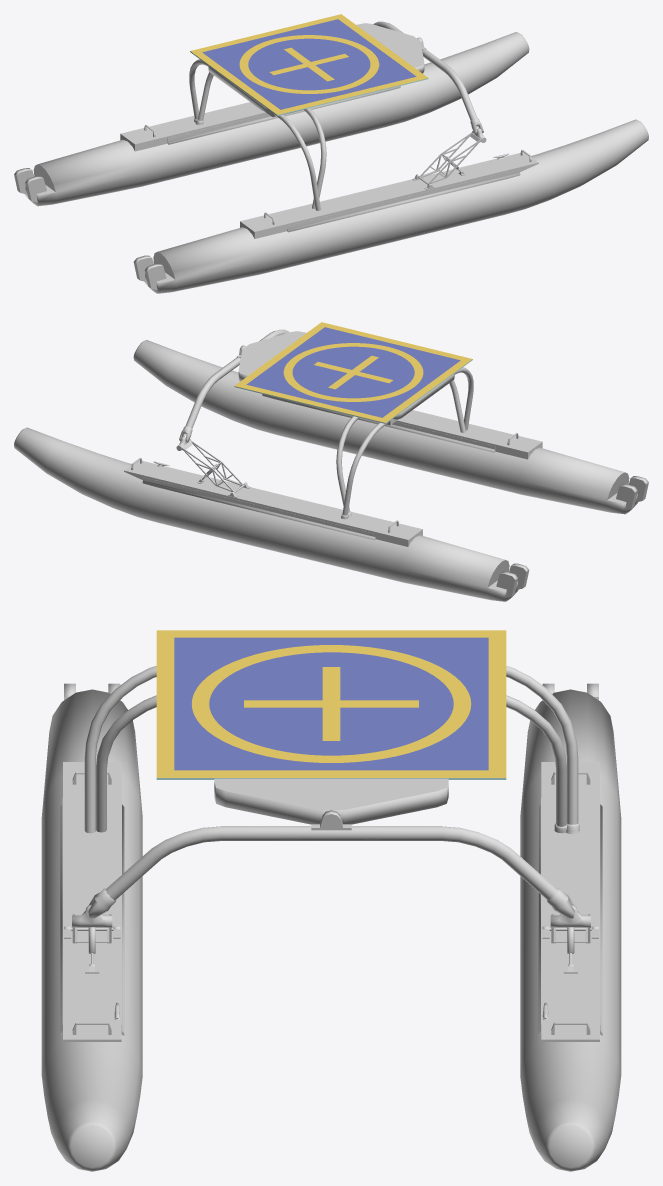
File: WAM-V-Base.dae
3 renders of one model, top to bottom at view 1: azimuth 30°, elevation 25°; view 2: azimuth 150°, elevation 25°; view 3: azimuth 270°, elevation 25°, orthographic. The views are drawn at different scales.
Visible parts, largest first — view 1: WamV, land_base_1_blue_circle_Body4.004, land_base_1_blue_frame_Body2.005, land_base_1_yellow_frame_Body1.022, land_base_1_yellow_circle_Body3.004, land_base_1_cross_Body5.003; view 2: WamV, land_base_1_blue_circle_Body4.004, land_base_1_blue_frame_Body2.005, land_base_1_yellow_frame_Body1.022, land_base_1_yellow_circle_Body3.004, land_base_1_cross_Body5.003; view 3: WamV, land_base_1_blue_circle_Body4.004, land_base_1_blue_frame_Body2.005, land_base_1_yellow_frame_Body1.022, land_base_1_yellow_circle_Body3.004, land_base_1_cross_Body5.003.
Part boxes in pixels (x1,y1,x2,y2): WamV: [14, 21, 648, 293]; land_base_1_blue_circle_Body4.004: [248, 38, 370, 90]; land_base_1_blue_frame_Body2.005: [202, 19, 416, 109]; land_base_1_yellow_frame_Body1.022: [190, 14, 428, 114]; land_base_1_yellow_circle_Body3.004: [239, 35, 379, 93]; land_base_1_cross_Body5.003: [269, 47, 348, 81]; WamV: [14, 329, 648, 601]; land_base_1_blue_circle_Body4.004: [292, 346, 414, 398]; land_base_1_blue_frame_Body2.005: [246, 327, 460, 417]; land_base_1_yellow_frame_Body1.022: [234, 322, 472, 422]; land_base_1_yellow_circle_Body3.004: [283, 343, 423, 401]; land_base_1_cross_Body5.003: [314, 355, 393, 389]; WamV: [41, 666, 621, 1171]; land_base_1_blue_circle_Body4.004: [209, 652, 453, 755]; land_base_1_blue_frame_Body2.005: [174, 637, 488, 770]; land_base_1_yellow_frame_Body1.022: [156, 630, 506, 777]; land_base_1_yellow_circle_Body3.004: [191, 645, 471, 762]; land_base_1_cross_Body5.003: [244, 667, 418, 740].
Size of the model in its own units: 5.01 by 2.49 by 1.29.
